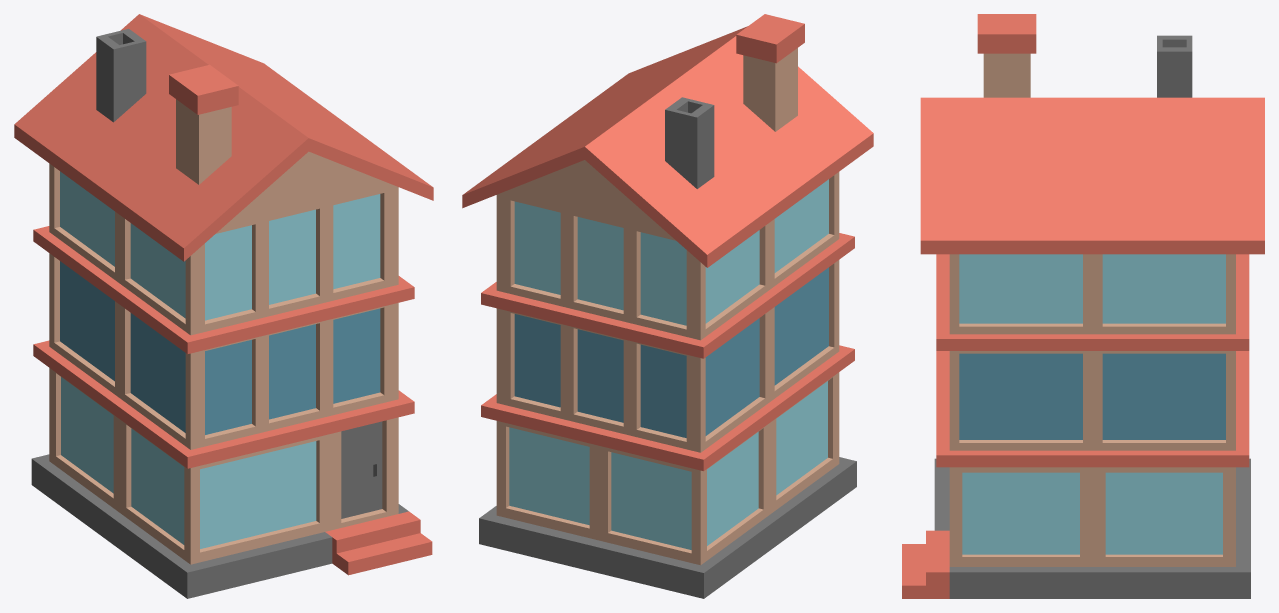
Rendered from House 1.6.fbx.
The picture shows the model from 3 angles, left to right: view 1: azimuth 30°, elevation 25°; view 2: azimuth 150°, elevation 25°; view 3: azimuth 270°, elevation 25°; orthographic projection. The views are drawn at different scales.
Parts seen in each view (by area): view 1: House_Type1_6; view 2: House_Type1_6; view 3: House_Type1_6.
Boxes of the visible parts, x1,y1,x2,y2 form: House_Type1_6: (14,14,433,598); House_Type1_6: (462,14,873,598); House_Type1_6: (902,14,1264,598).
Size of the model in its own units: 397 by 729 by 492.
